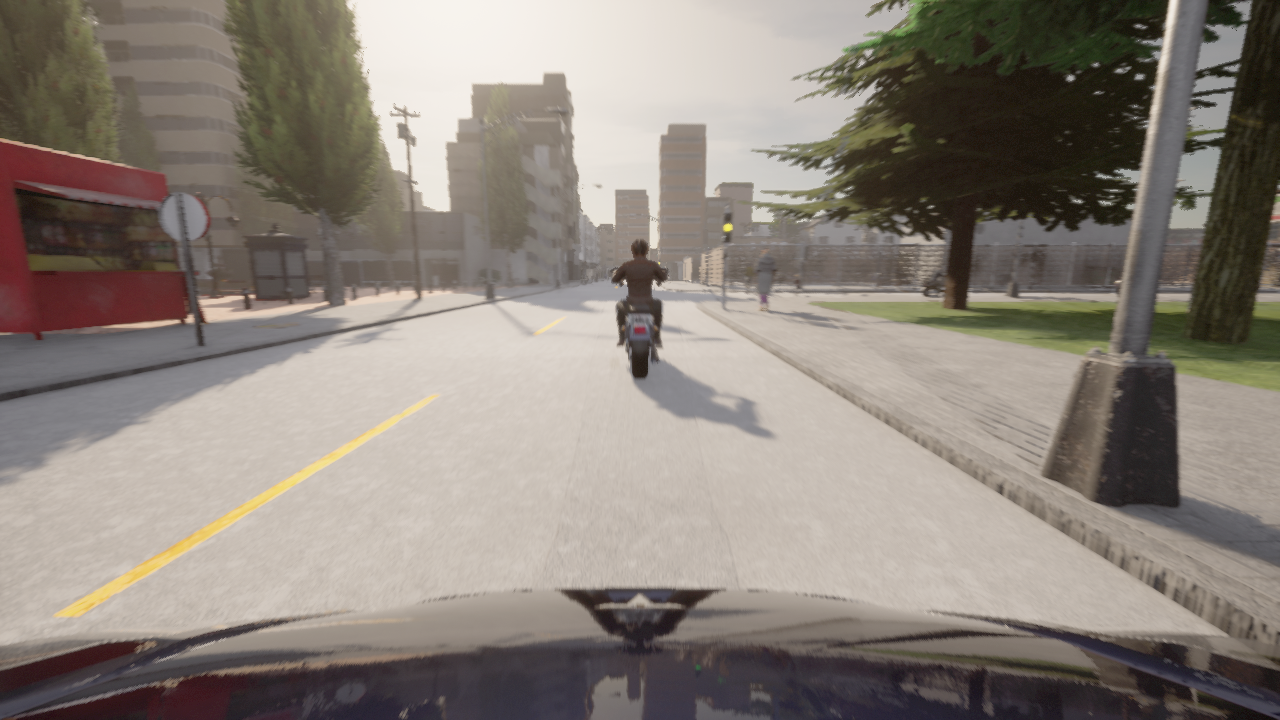cyclist: (0, 588, 1279, 719), (611, 269, 668, 380), (842, 268, 866, 282), (921, 281, 942, 296), (737, 267, 755, 281), (775, 270, 793, 281), (802, 271, 821, 281), (879, 269, 896, 278), (867, 271, 882, 281), (1114, 278, 1121, 296), (774, 273, 788, 281)
pedestrian: (754, 248, 776, 311), (743, 262, 753, 293), (792, 275, 800, 296)
